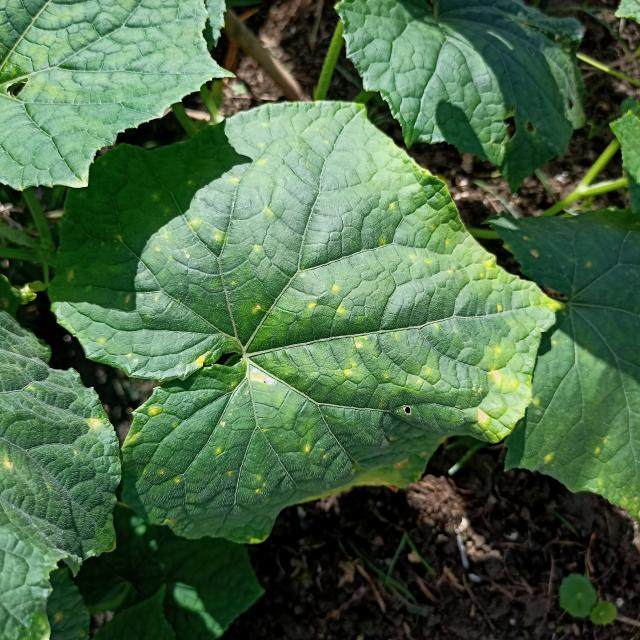disease_cucumber: (306, 272, 526, 443), (134, 135, 282, 271), (136, 402, 228, 494)
